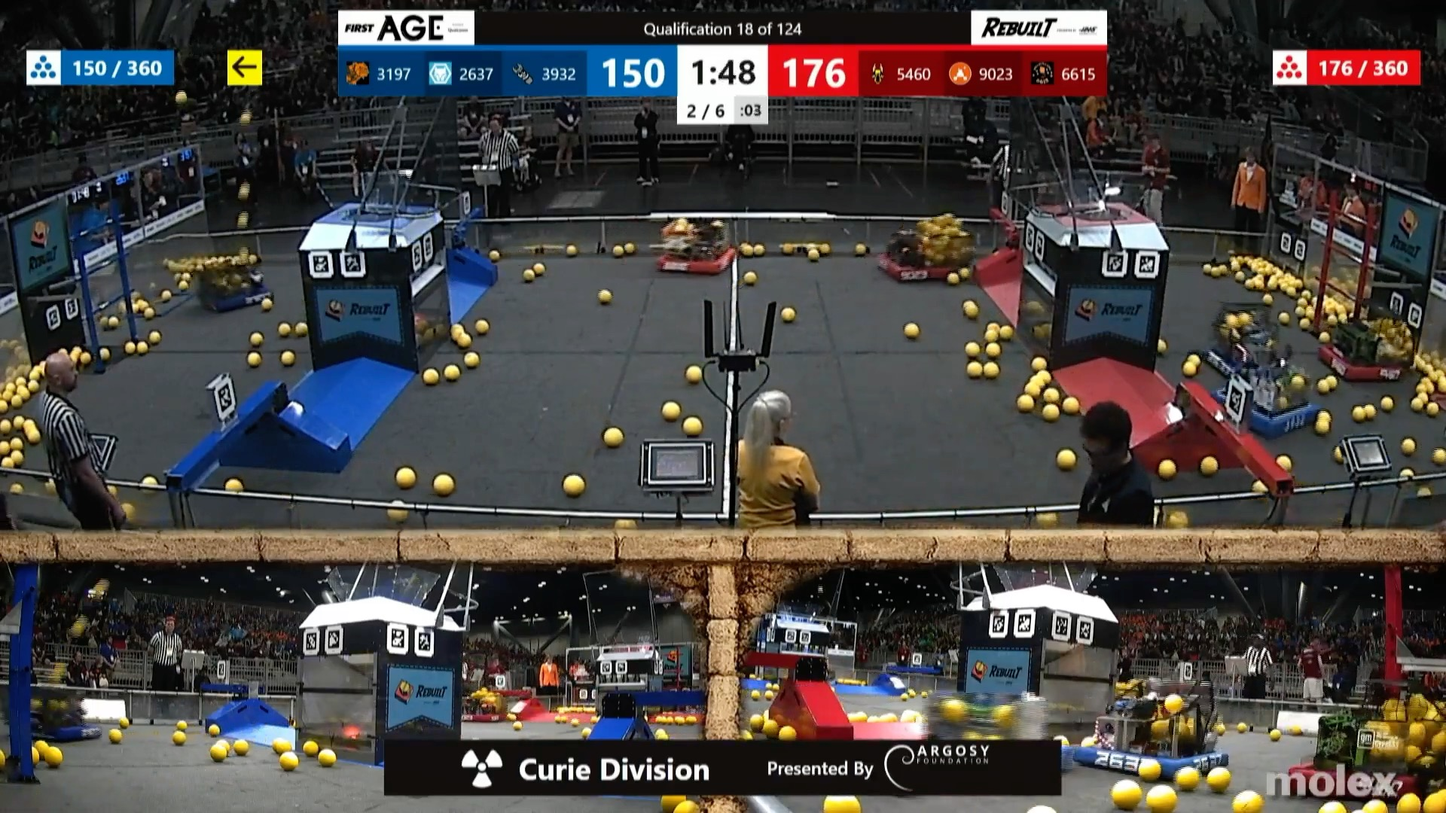bumpers: (1073, 735, 1236, 792), (1278, 750, 1435, 805), (1194, 391, 1332, 442), (1304, 336, 1419, 388), (870, 245, 999, 291), (647, 239, 744, 281), (188, 276, 285, 317), (27, 714, 109, 741)
